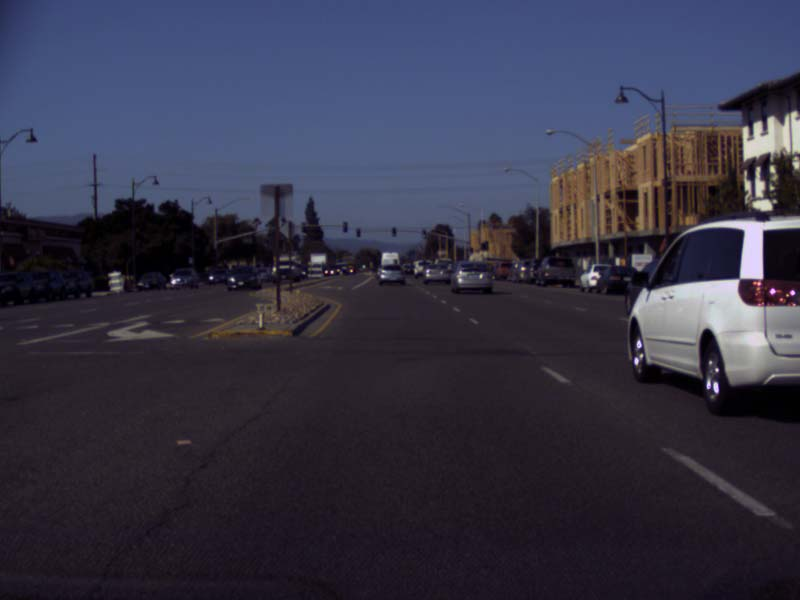Green: (392, 227, 395, 236), (422, 230, 425, 237), (469, 248, 472, 254)
Red: (356, 228, 359, 236)
